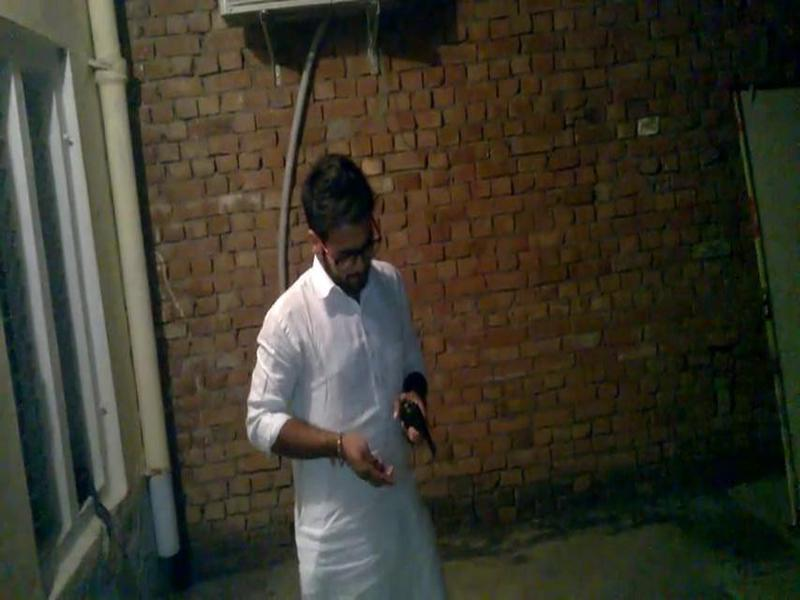Revolver: (376, 394, 455, 472)
